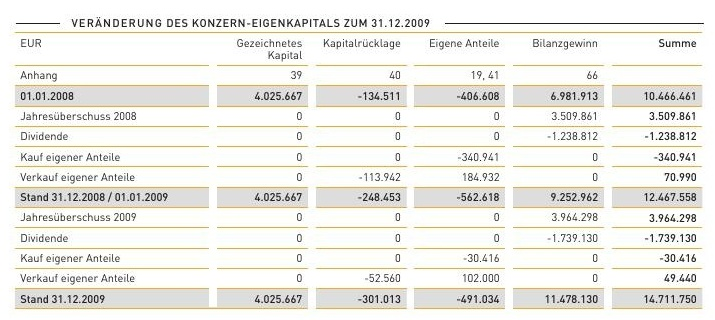table: (0, 0, 715, 320)
